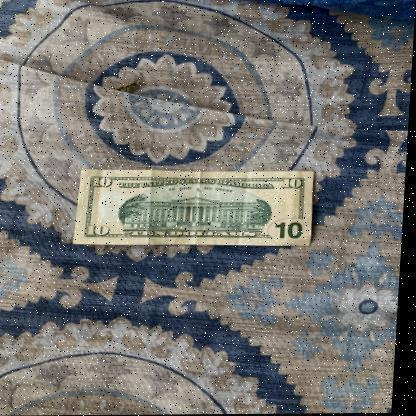ten-back: (78, 168, 317, 248)
